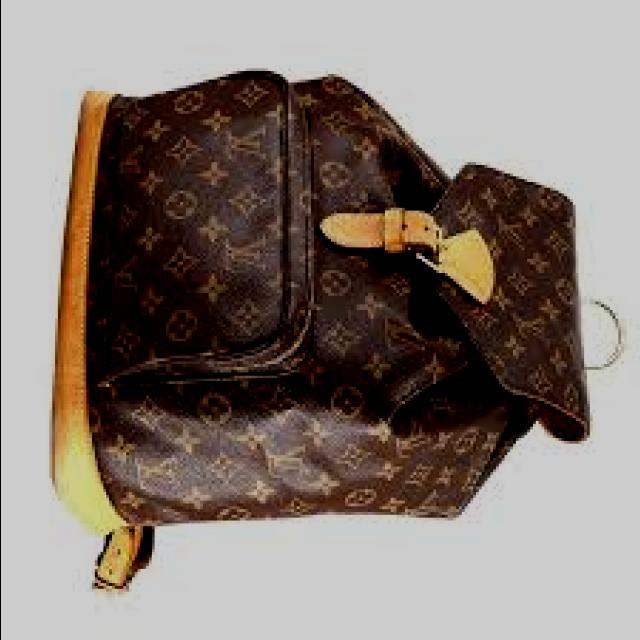backpack: (53, 70, 627, 590)
